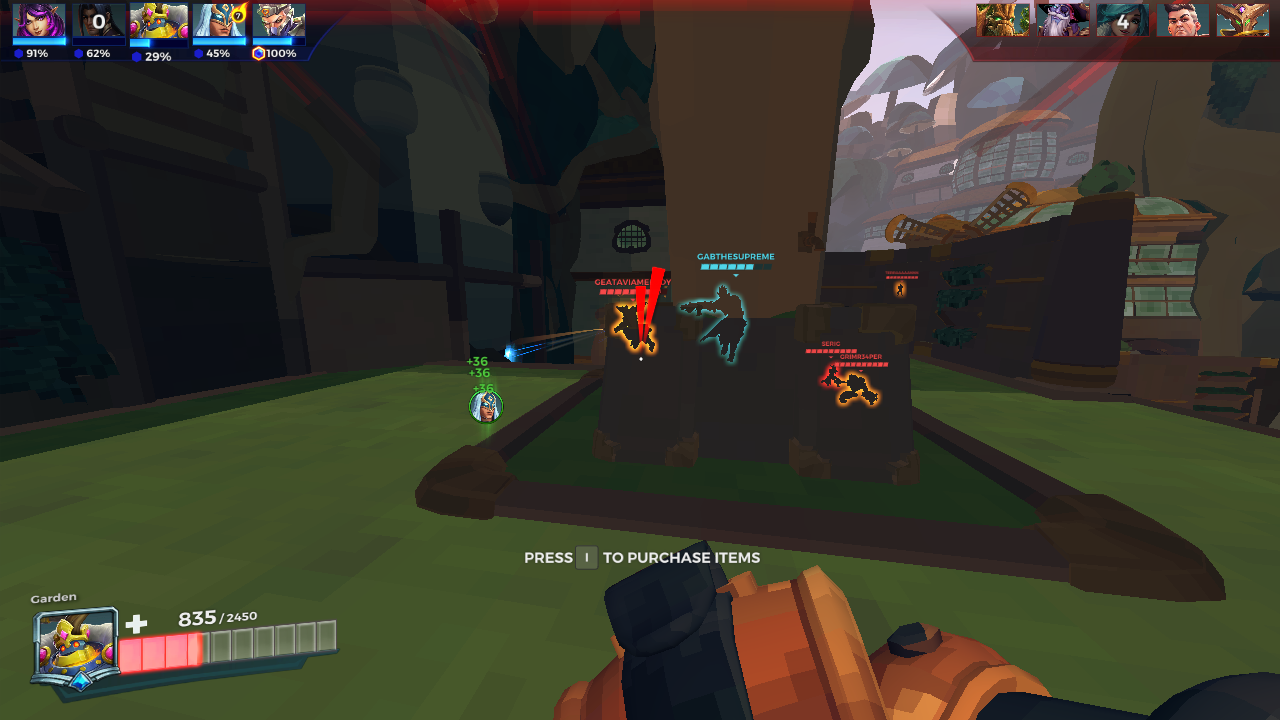model: (611, 298, 657, 356), (839, 371, 880, 412), (819, 362, 840, 390), (895, 279, 905, 295)
